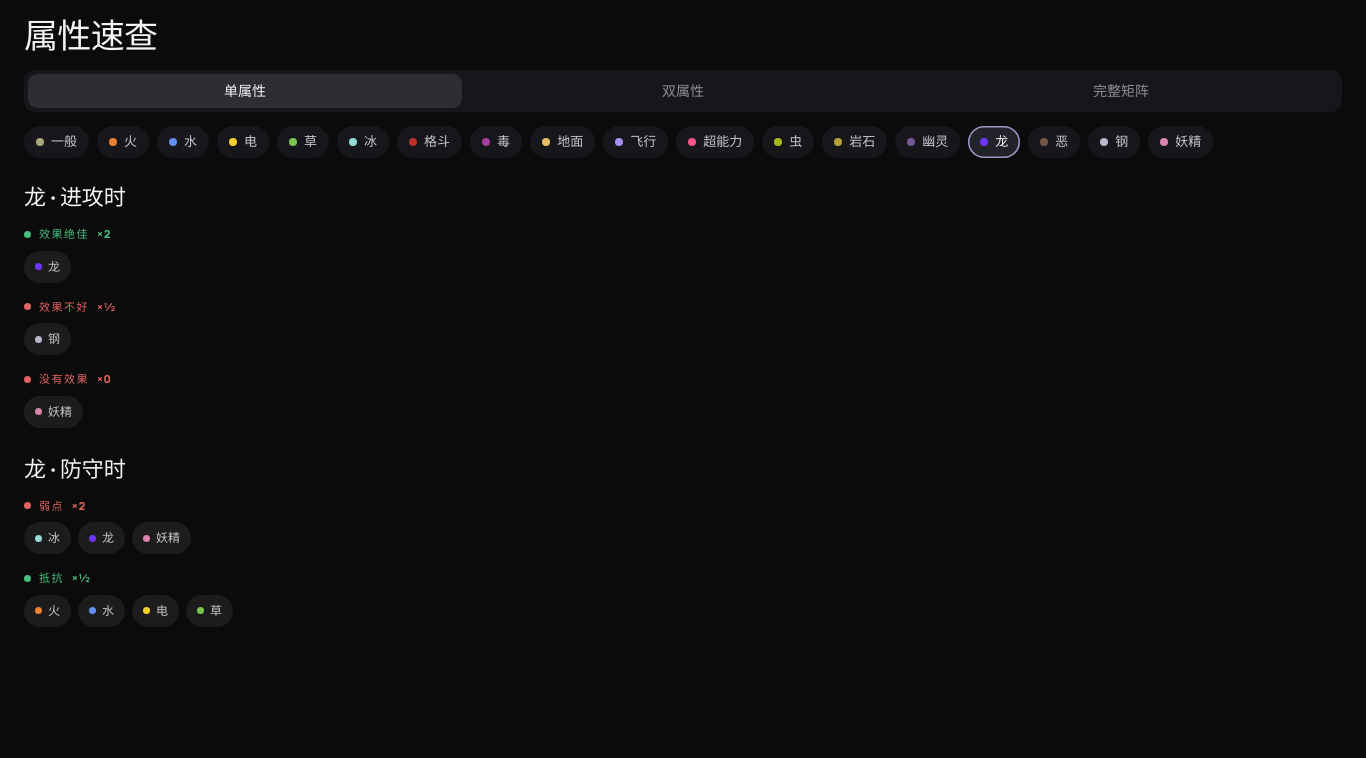
Test case: TypeChartPage › groups the dual-type answer by multiplier once the second slot is filled
Click the button "双属性": (683, 91) [466,74,900,108]
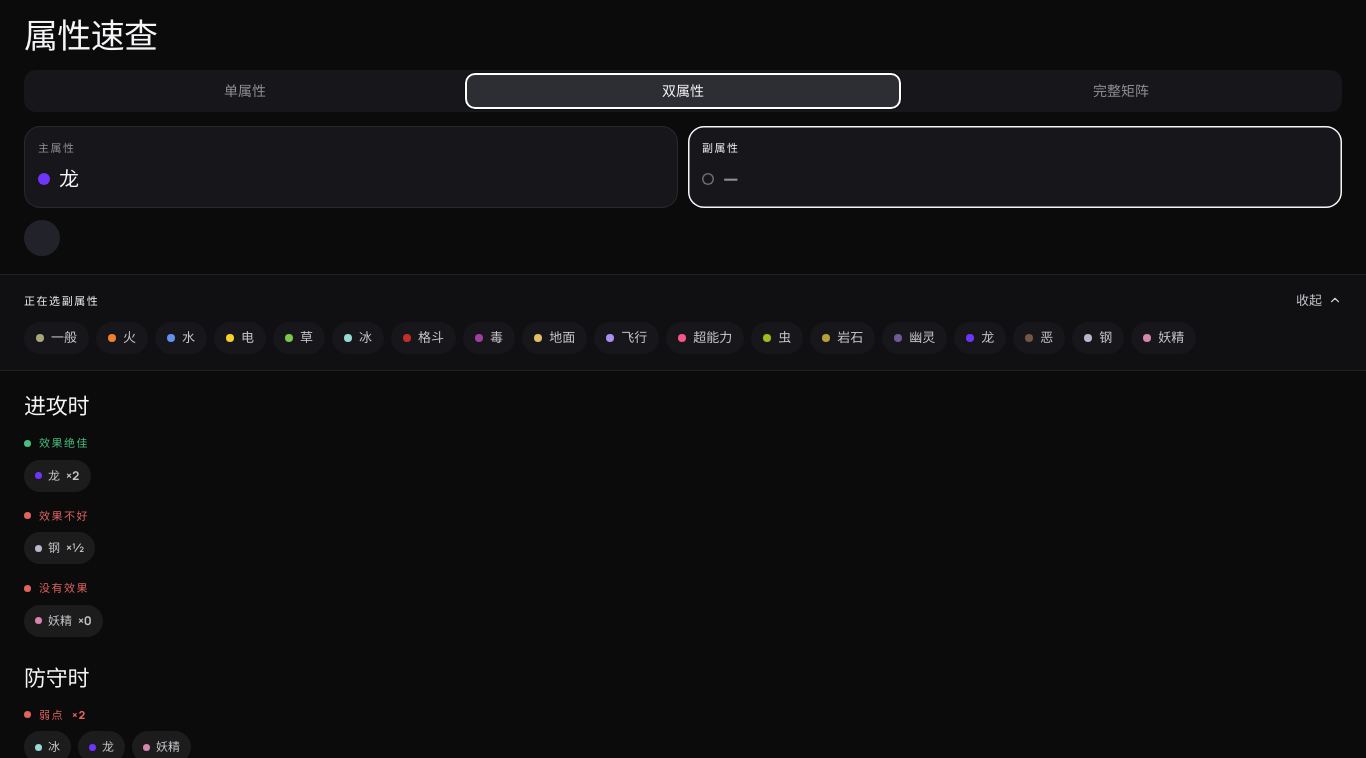
Expected: the text "正在选副属性" is shown, [24,292,99,309]
Click the button "飞行": (627, 338) [594,322,659,354]
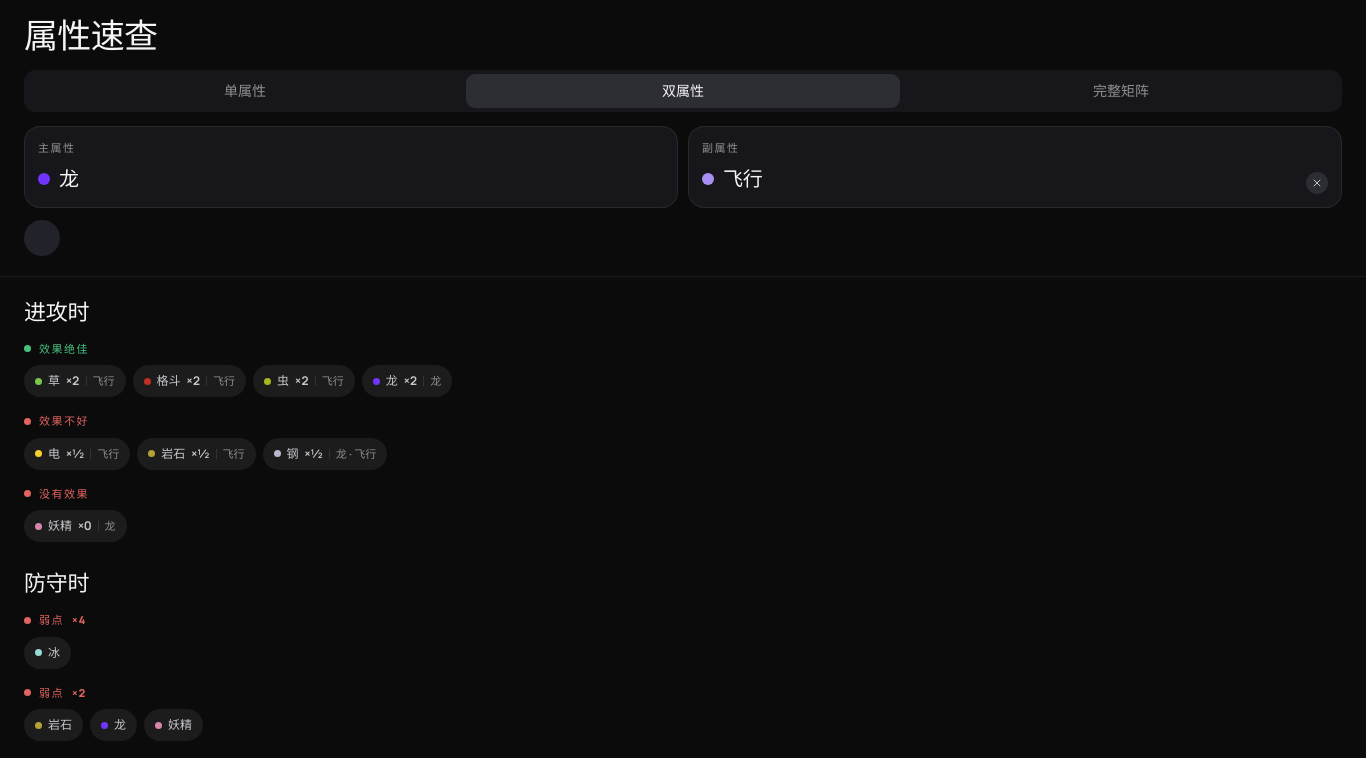
Expected: the text "正在选副属性" is gone
Expected: the text "弱点" is shown 2 times, [24,612,86,627]; [24,684,86,700]
Expected: the text "×4" is shown, [72,612,86,628]
Click the button named "清空副属性": (1317, 182) [1306,172,1328,194]
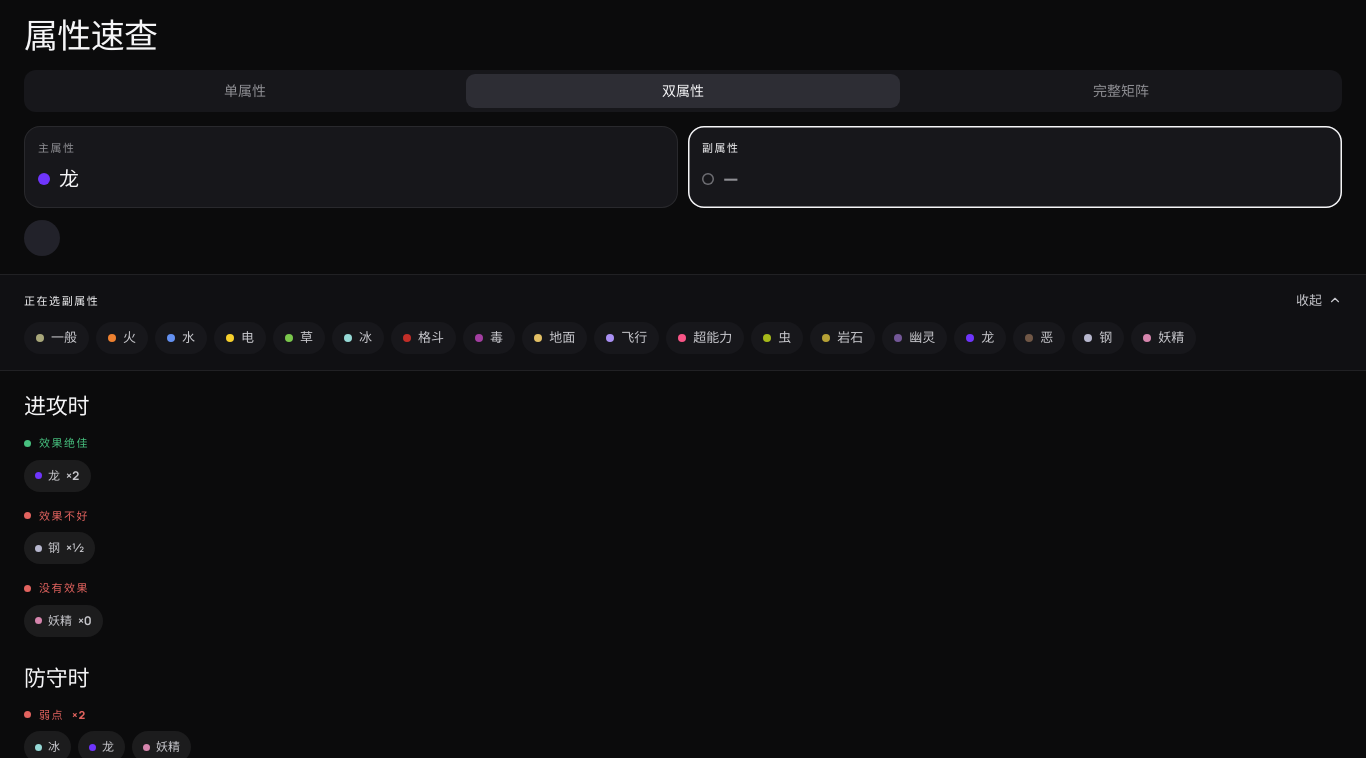
Expected: the text "正在选副属性" is shown, [24,292,99,309]
Expected: the text "×4" is gone
